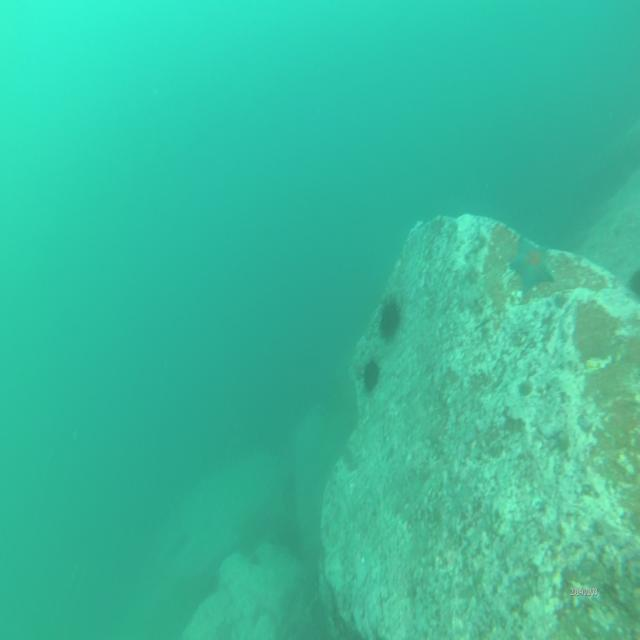echinus: (376, 289, 403, 345), (360, 351, 382, 398)
starfish: (509, 227, 557, 297)
